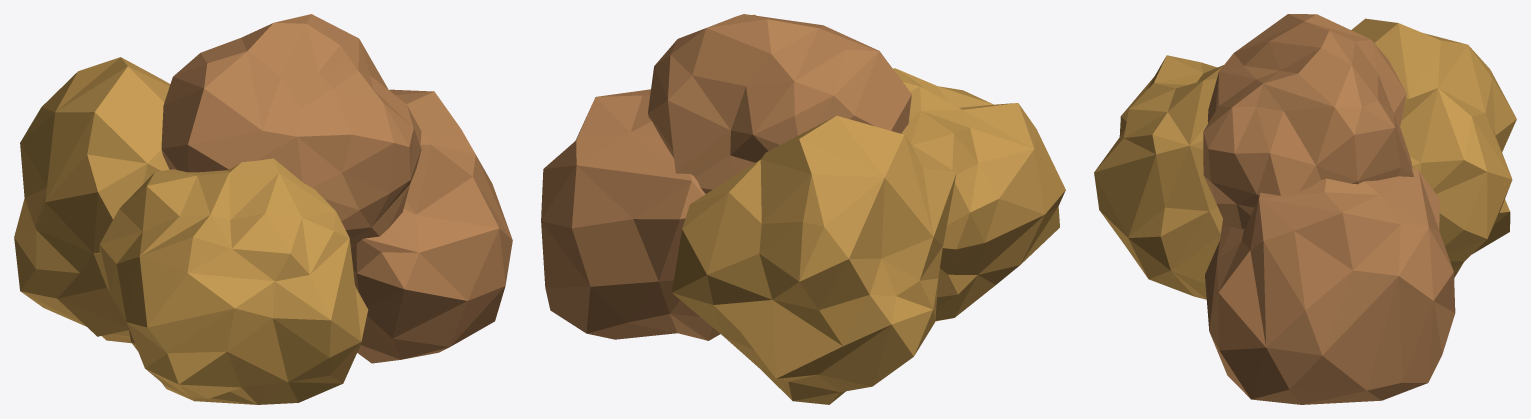
File: Bush big 2.1.fbx
3 renders of one model, left to right at view 1: azimuth 30°, elevation 25°; view 2: azimuth 150°, elevation 25°; view 3: azimuth 270°, elevation 25°, orthographic. The views are drawn at different scales.
Parts seen in each view (by area): view 1: Cube.475; view 2: Cube.475; view 3: Cube.475.
Part boxes in pixels (bbox=[...]): Cube.475: bbox=[14, 14, 512, 404]; Cube.475: bbox=[541, 14, 1065, 404]; Cube.475: bbox=[1094, 14, 1516, 404].
Bounding box in the file's own units: 2773 × 2111 × 2557.
